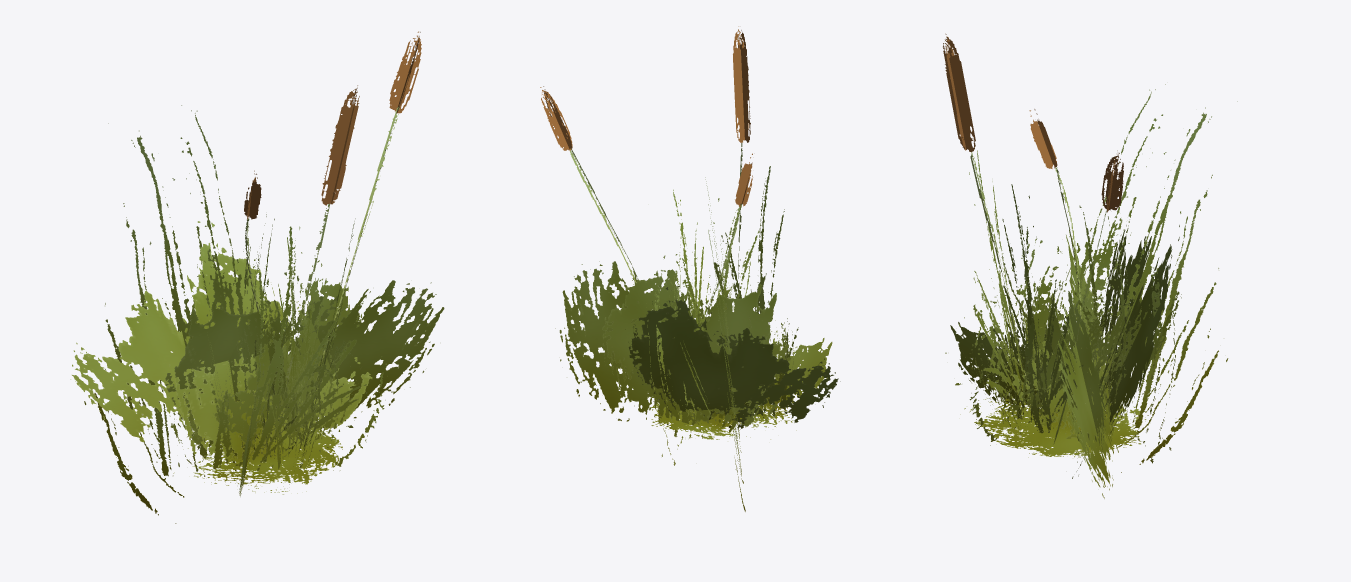
File: grass25.fbx
3 renders of one model, left to right at view 1: azimuth 30°, elevation 25°; view 2: azimuth 150°, elevation 25°; view 3: azimuth 270°, elevation 25°, orthographic. The views are drawn at different scales.
Parts seen in each view (by area): view 1: cattail2_BAKED; view 2: cattail2_BAKED; view 3: cattail2_BAKED.
Boxes of the visible parts, bbox=[...] form: cattail2_BAKED: bbox=[70, 31, 444, 523]; cattail2_BAKED: bbox=[540, 26, 840, 511]; cattail2_BAKED: bbox=[943, 33, 1237, 498].
Bounding box in the file's own units: 64.31 × 70.24 × 86.27.
